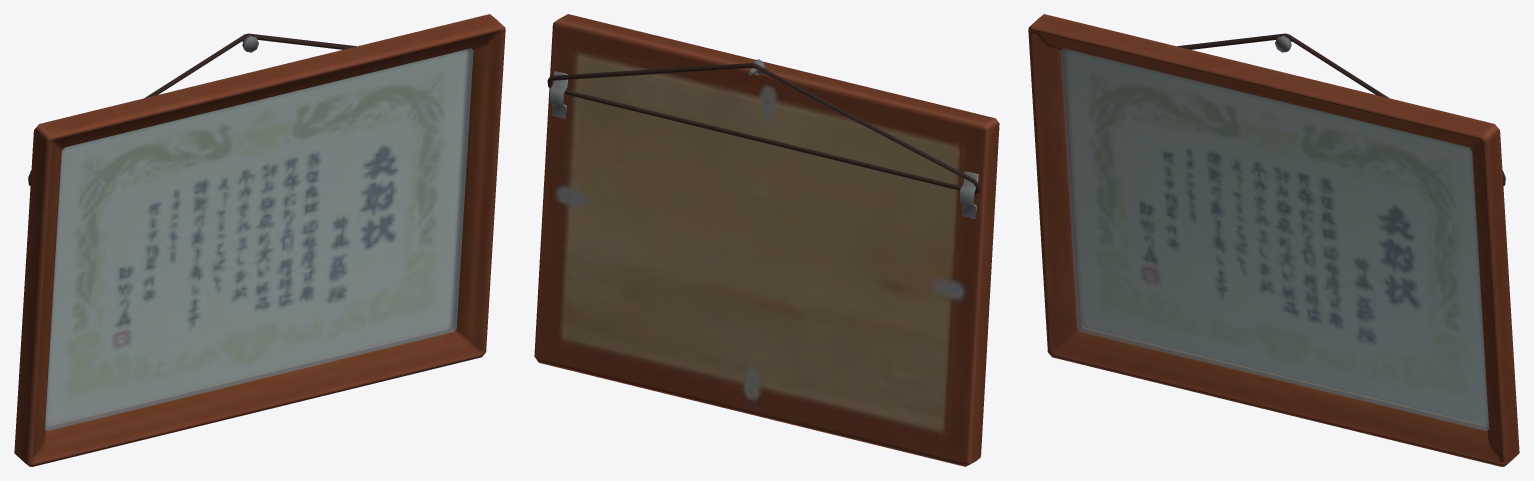
3 renders of one model, left to right at view 1: azimuth 30°, elevation 25°; view 2: azimuth 150°, elevation 25°; view 3: azimuth 330°, elevation 25°, orthographic. The views are drawn at different scales.
Bounding box in the file's own units: 8.1 × 6.25 × 1.04.
Materials: 2 (1 with a texture image).
